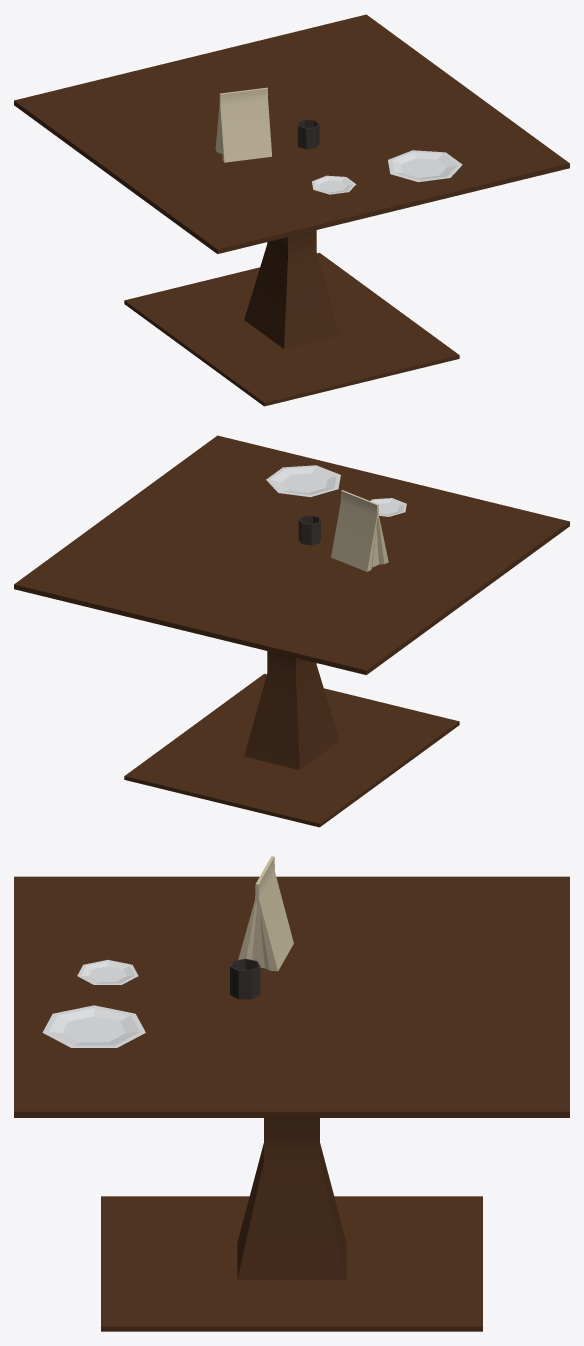
Rendered from Table.fbx.
3 views of the same model, one above another, from view 1: azimuth 30°, elevation 25°; view 2: azimuth 150°, elevation 25°; view 3: azimuth 270°, elevation 25° (orthographic). The views are drawn at different scales.
Parts seen in each view (by area): view 1: Table; view 2: Table; view 3: Table.
Boxes of the visible parts, x1,y1,x2,y2 form: Table: (14, 14, 569, 406); Table: (14, 435, 569, 827); Table: (14, 856, 569, 1331).
Bounding box in the file's own units: 0.0749 × 0.0532 × 0.0749.
